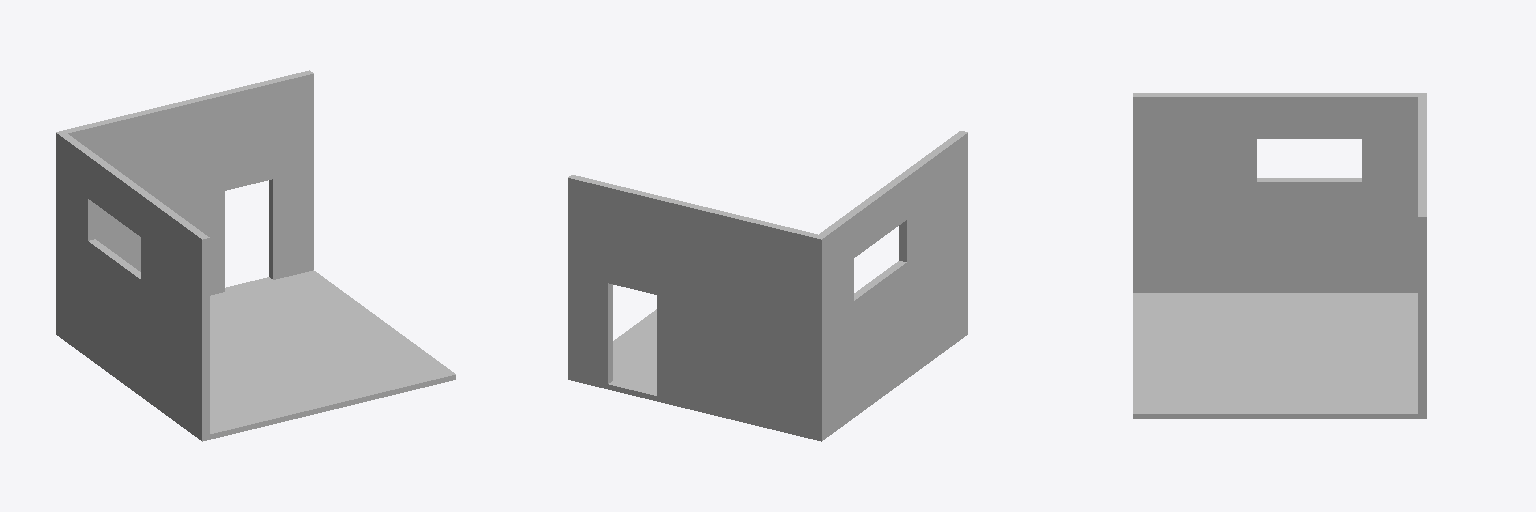
The model's file is indoor.vox.obj.
The picture shows the model from 3 angles: view 1: azimuth 30°, elevation 25°; view 2: azimuth 150°, elevation 25°; view 3: azimuth 270°, elevation 25°; orthographic projection.
Visible parts, largest first — view 1: object 1; view 2: object 1; view 3: object 1.
Part boxes in pixels (bbox=[...]): object 1: bbox=[56, 70, 455, 441]; object 1: bbox=[568, 131, 967, 441]; object 1: bbox=[1133, 93, 1426, 418].
Bounding box in the file's own units: 10 × 7.6 × 10.